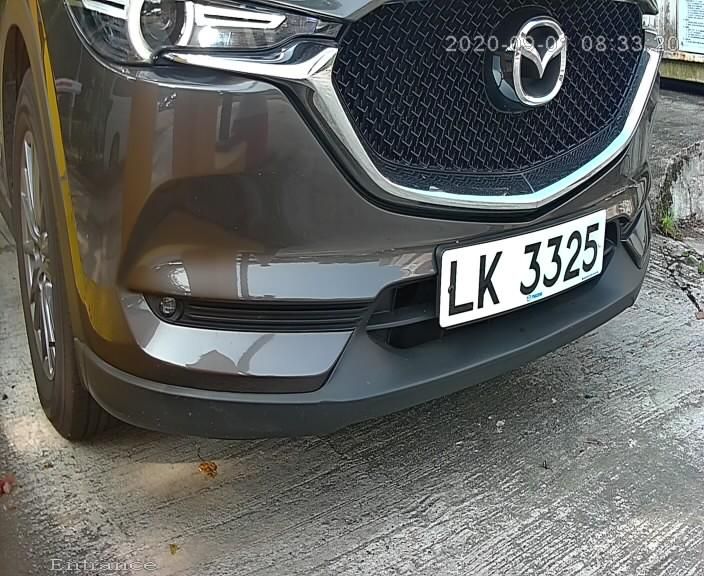License Plate: (425, 201, 617, 332)
